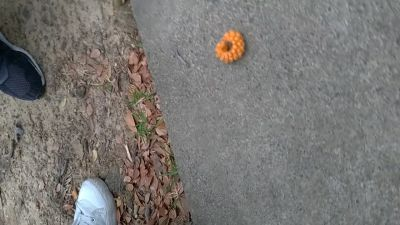eggs: (214, 31, 245, 63)
